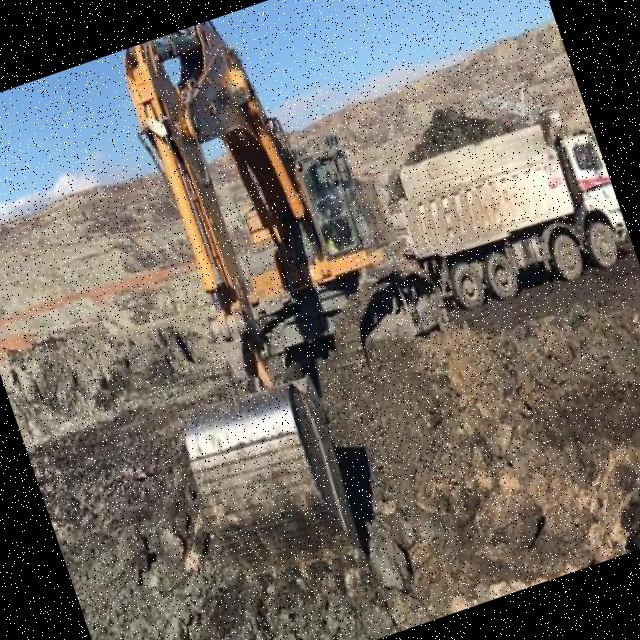Dump Truck: (372, 96, 638, 330)
Excavator: (48, 0, 517, 616)
